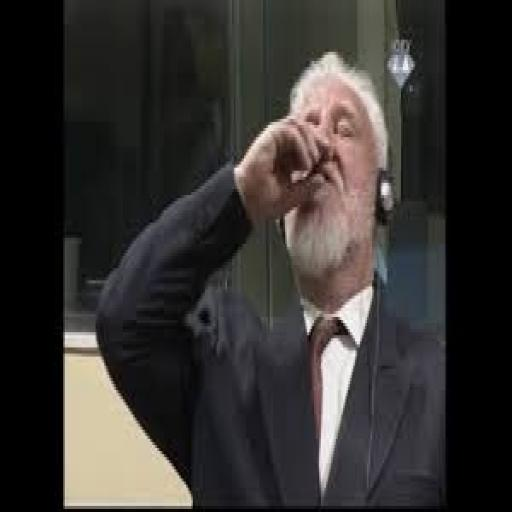drinking: (94, 46, 445, 509)
